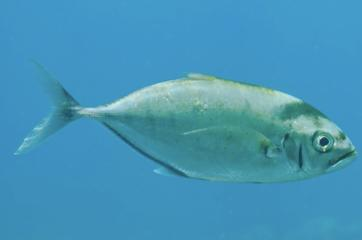Carangidae -Jacks-: (13, 50, 361, 186)
